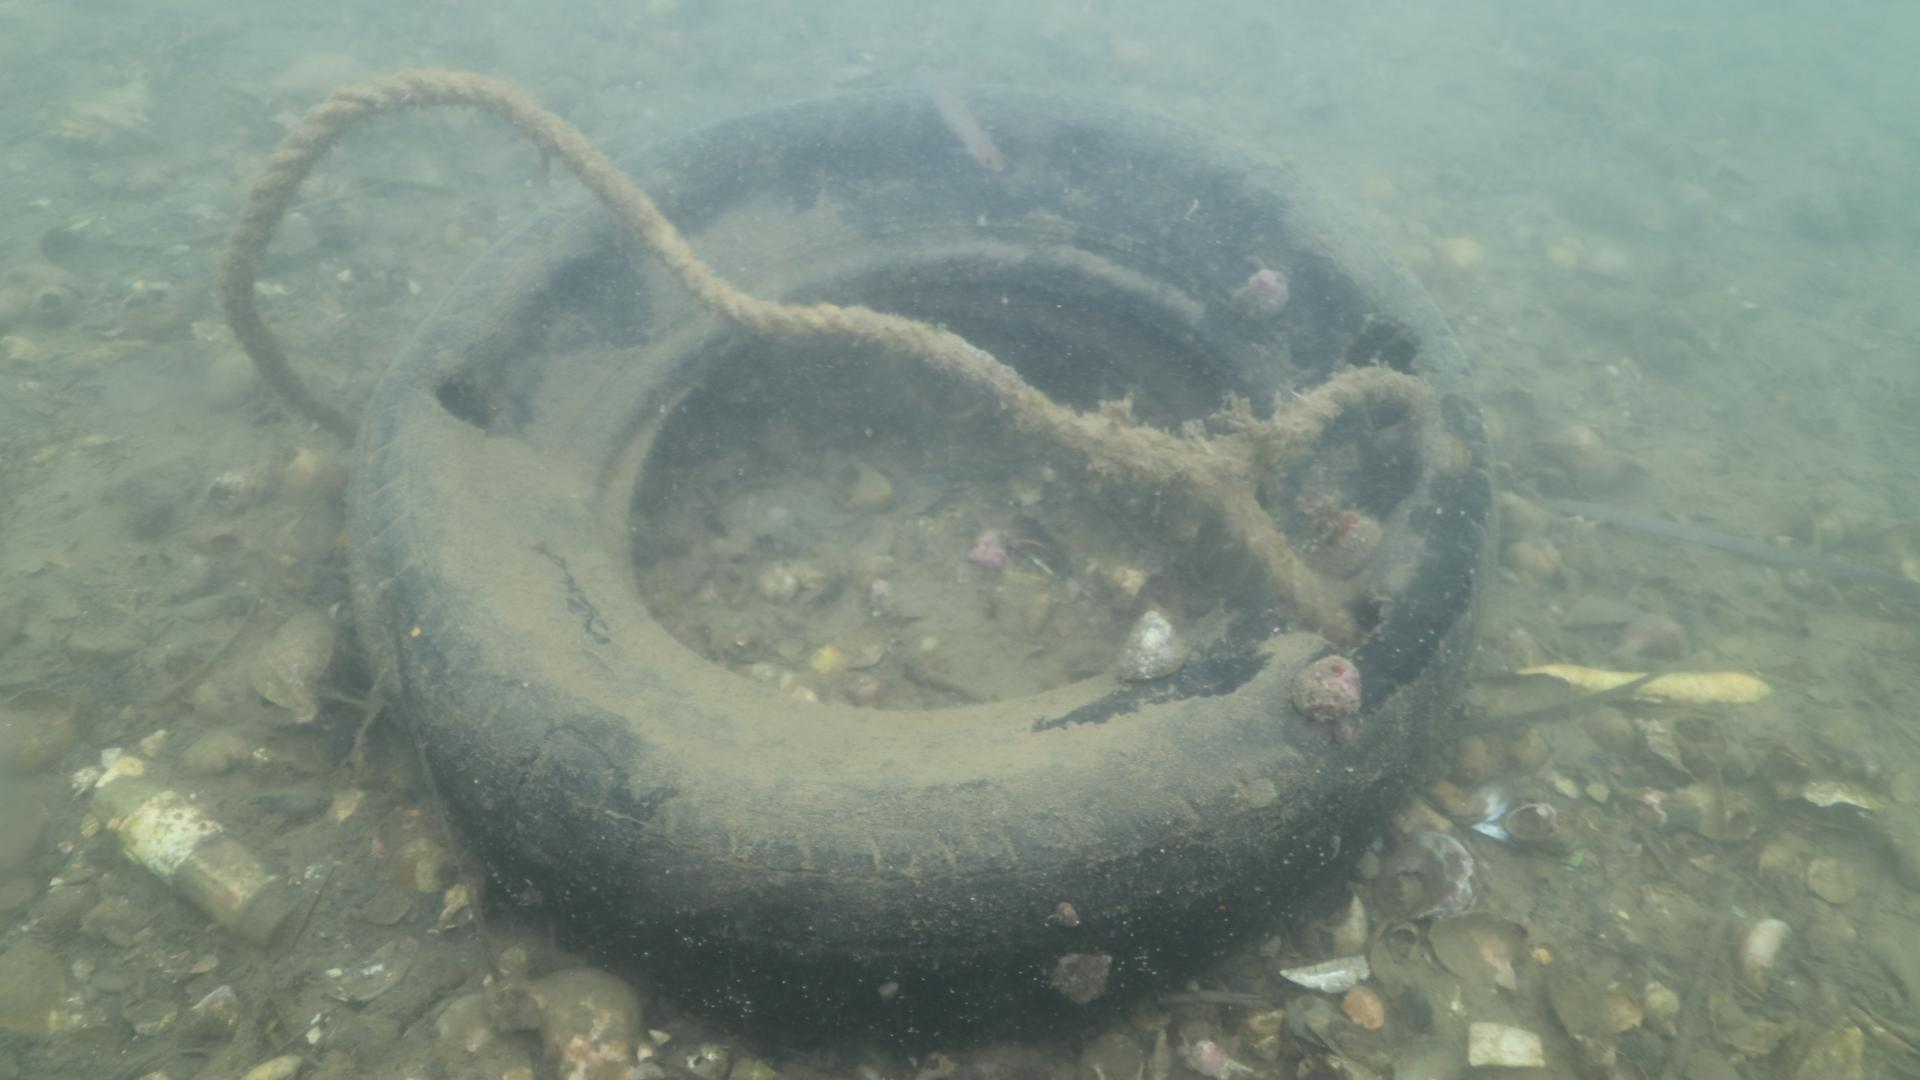rope: (218, 73, 1447, 657)
tire: (345, 76, 1497, 1062)
